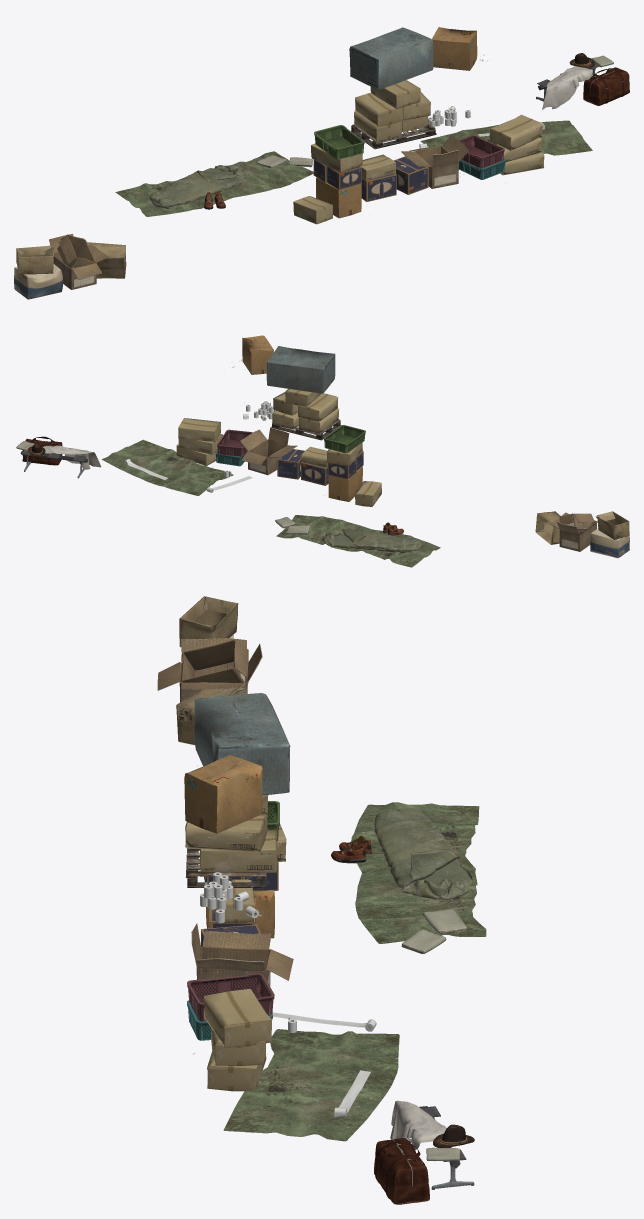
File: sm39_158_evacueeset01a.fbx
The picture shows the model from 3 angles, top to bottom: view 1: azimuth 30°, elevation 25°; view 2: azimuth 150°, elevation 25°; view 3: azimuth 270°, elevation 25°; orthographic projection. The views are drawn at different scales.
Visible parts, largest first — view 1: LOD_1_Group_0_Sub_13__sm36_004_Cardboard03A_A_Mat, LOD_1_Group_0_Sub_1__sm30_081_ShowerMat01A_A_Mat, LOD_1_Group_0_Sub_18__sm36_058_Cardboard07A_A_Mat, LOD_1_Group_0_Sub_11__sm36_005_Cardboard04A_A_Mat, LOD_1_Group_0_Sub_17__sm36_057_Cardboard06A_A_Mat, LOD_1_Group_0_Sub_15__sm32_128_BeerCase01A_A_Mat, LOD_1_Group_0_Sub_4__sm32_188_SleepingBag01A_A_Mat, LOD_1_Group_0_Sub_9__sm36_002_Cardboard01A_A_Mat, LOD_1_Group_0_Sub_7__sm32_045_BostonBag01A_A_Mat, LOD_1_Group_0_Sub_14__sm30_133_PlasticTray01A_B_Mat, LOD_1_Group_0_Sub_10__sm36_003_Cardboard02A_A_Mat, LOD_1_Group_0_Sub_6__sm36_035_TableCloth03B_A_Mat (+5 smaller); view 2: LOD_1_Group_0_Sub_1__sm30_081_ShowerMat01A_A_Mat, LOD_1_Group_0_Sub_13__sm36_004_Cardboard03A_A_Mat, LOD_1_Group_0_Sub_18__sm36_058_Cardboard07A_A_Mat, LOD_1_Group_0_Sub_11__sm36_005_Cardboard04A_A_Mat, LOD_1_Group_0_Sub_17__sm36_057_Cardboard06A_A_Mat, LOD_1_Group_0_Sub_15__sm32_128_BeerCase01A_A_Mat, LOD_1_Group_0_Sub_4__sm32_188_SleepingBag01A_A_Mat, LOD_1_Group_0_Sub_9__sm36_002_Cardboard01A_A_Mat, LOD_1_Group_0_Sub_14__sm30_133_PlasticTray01A_B_Mat, LOD_1_Group_0_Sub_10__sm36_003_Cardboard02A_A_Mat, LOD_1_Group_3_Sub_1__sm30_133_PlasticTray01A_B_Mat, LOD_1_Group_0_Sub_6__sm36_035_TableCloth03B_A_Mat (+6 smaller); view 3: LOD_1_Group_0_Sub_1__sm30_081_ShowerMat01A_A_Mat, LOD_1_Group_0_Sub_13__sm36_004_Cardboard03A_A_Mat, LOD_1_Group_0_Sub_18__sm36_058_Cardboard07A_A_Mat, LOD_1_Group_0_Sub_4__sm32_188_SleepingBag01A_A_Mat, LOD_1_Group_0_Sub_11__sm36_005_Cardboard04A_A_Mat, LOD_1_Group_0_Sub_17__sm36_057_Cardboard06A_A_Mat, LOD_1_Group_0_Sub_9__sm36_002_Cardboard01A_A_Mat, LOD_1_Group_0_Sub_7__sm32_045_BostonBag01A_A_Mat, LOD_1_Group_0_Sub_12__sm36_006_Cardboard05A_A_Mat, LOD_1_Group_3_Sub_1__sm30_133_PlasticTray01A_B_Mat, LOD_1_Group_0_Sub_2__sm36_029_BathTowel01A_A_Mat, LOD_1_Group_1_Sub_1__sm44_002_OpenToilet01A_A_Mat (+3 smaller).
Boxes of the visible parts, <box> form: LOD_1_Group_0_Sub_13__sm36_004_Cardboard03A_A_Mat: <box>293,80,544,224</box>; LOD_1_Group_0_Sub_1__sm30_081_ShowerMat01A_A_Mat: <box>115,120,592,216</box>; LOD_1_Group_0_Sub_18__sm36_058_Cardboard07A_A_Mat: <box>349,27,433,89</box>; LOD_1_Group_0_Sub_11__sm36_005_Cardboard04A_A_Mat: <box>49,134,468,289</box>; LOD_1_Group_0_Sub_17__sm36_057_Cardboard06A_A_Mat: <box>316,27,477,218</box>; LOD_1_Group_0_Sub_15__sm32_128_BeerCase01A_A_Mat: <box>313,156,428,201</box>; LOD_1_Group_0_Sub_4__sm32_188_SleepingBag01A_A_Mat: <box>149,165,245,208</box>; LOD_1_Group_0_Sub_9__sm36_002_Cardboard01A_A_Mat: <box>16,242,126,278</box>; LOD_1_Group_0_Sub_7__sm32_045_BostonBag01A_A_Mat: <box>583,67,629,105</box>; LOD_1_Group_0_Sub_14__sm30_133_PlasticTray01A_B_Mat: <box>314,125,364,159</box>; LOD_1_Group_0_Sub_10__sm36_003_Cardboard02A_A_Mat: <box>14,264,63,299</box>; LOD_1_Group_0_Sub_6__sm36_035_TableCloth03B_A_Mat: <box>542,66,592,109</box>; LOD_1_Group_0_Sub_1__sm30_081_ShowerMat01A_A_Mat: <box>102,439,440,567</box>; LOD_1_Group_0_Sub_13__sm36_004_Cardboard03A_A_Mat: <box>176,389,381,506</box>; LOD_1_Group_0_Sub_18__sm36_058_Cardboard07A_A_Mat: <box>266,346,335,393</box>; LOD_1_Group_0_Sub_11__sm36_005_Cardboard04A_A_Mat: <box>240,427,597,551</box>; LOD_1_Group_0_Sub_17__sm36_057_Cardboard06A_A_Mat: <box>242,335,362,501</box>; LOD_1_Group_0_Sub_15__sm32_128_BeerCase01A_A_Mat: <box>277,449,363,485</box>; LOD_1_Group_0_Sub_4__sm32_188_SleepingBag01A_A_Mat: <box>323,529,421,552</box>; LOD_1_Group_0_Sub_9__sm36_002_Cardboard01A_A_Mat: <box>535,511,629,544</box>; LOD_1_Group_0_Sub_14__sm30_133_PlasticTray01A_B_Mat: <box>324,425,365,453</box>; LOD_1_Group_0_Sub_10__sm36_003_Cardboard02A_A_Mat: <box>590,528,629,558</box>; LOD_1_Group_3_Sub_1__sm30_133_PlasticTray01A_B_Mat: <box>217,429,252,456</box>; LOD_1_Group_0_Sub_6__sm36_035_TableCloth03B_A_Mat: <box>43,445,101,469</box>; LOD_1_Group_0_Sub_1__sm30_081_ShowerMat01A_A_Mat: <box>223,802,486,1141</box>; LOD_1_Group_0_Sub_13__sm36_004_Cardboard03A_A_Mat: <box>185,795,286,1091</box>; LOD_1_Group_0_Sub_18__sm36_058_Cardboard07A_A_Mat: <box>194,693,290,795</box>; LOD_1_Group_0_Sub_4__sm32_188_SleepingBag01A_A_Mat: <box>374,808,474,899</box>; LOD_1_Group_0_Sub_11__sm36_005_Cardboard04A_A_Mat: <box>157,638,293,985</box>; LOD_1_Group_0_Sub_17__sm36_057_Cardboard06A_A_Mat: <box>184,755,274,938</box>; LOD_1_Group_0_Sub_9__sm36_002_Cardboard01A_A_Mat: <box>176,596,247,745</box>; LOD_1_Group_0_Sub_7__sm32_045_BostonBag01A_A_Mat: <box>374,1138,429,1204</box>; LOD_1_Group_0_Sub_12__sm36_006_Cardboard05A_A_Mat: <box>180,639,248,682</box>; LOD_1_Group_3_Sub_1__sm30_133_PlasticTray01A_B_Mat: <box>187,973,274,1021</box>; LOD_1_Group_0_Sub_2__sm36_029_BathTowel01A_A_Mat: <box>401,908,467,1161</box>; LOD_1_Group_1_Sub_1__sm44_002_OpenToilet01A_A_Mat: <box>200,881,370,1117</box>.
Size of the model in its own units: 12.54 by 2.78 by 3.22.
